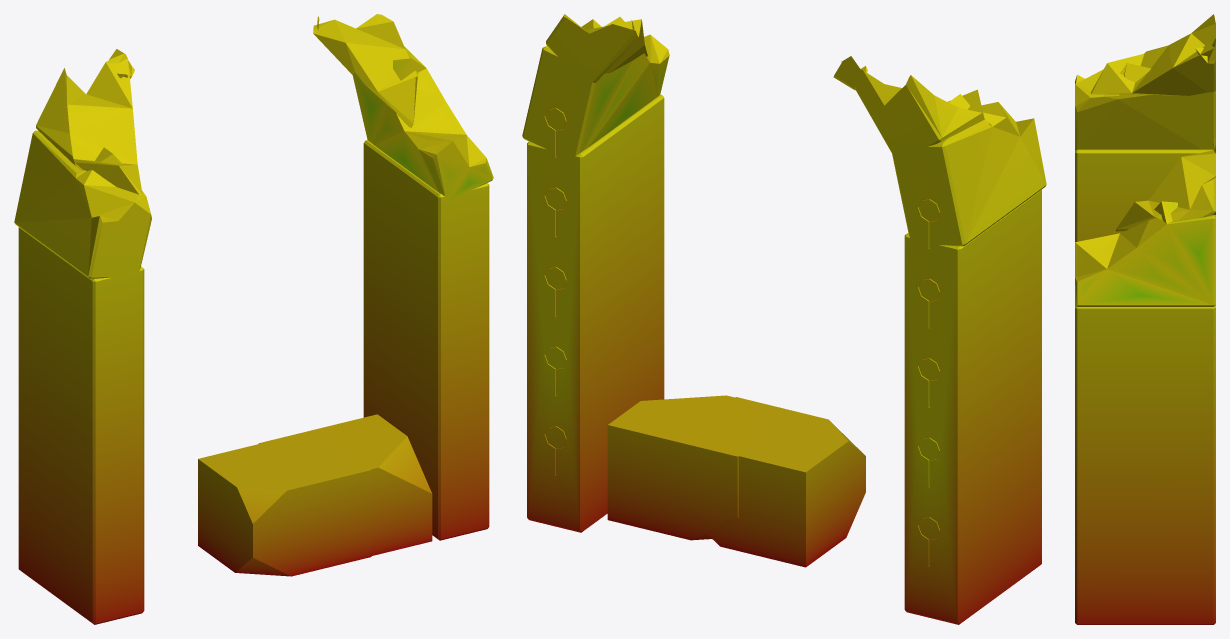
Rendered from temple_gate_broken.glb.
3 renders of one model, left to right at view 1: azimuth 30°, elevation 25°; view 2: azimuth 150°, elevation 25°; view 3: azimuth 270°, elevation 25°, orthographic. The views are drawn at different scales.
Parts seen in each view (by area): view 1: temple_gate_broken; view 2: temple_gate_broken; view 3: temple_gate_broken.
Boxes of the visible parts, x1,y1,x2,y2 form: temple_gate_broken: (14, 14, 493, 624); temple_gate_broken: (522, 14, 1046, 624); temple_gate_broken: (1075, 14, 1215, 624).
Size of what is drawn, in the model's own units: 6.13 by 7.19 by 2.
